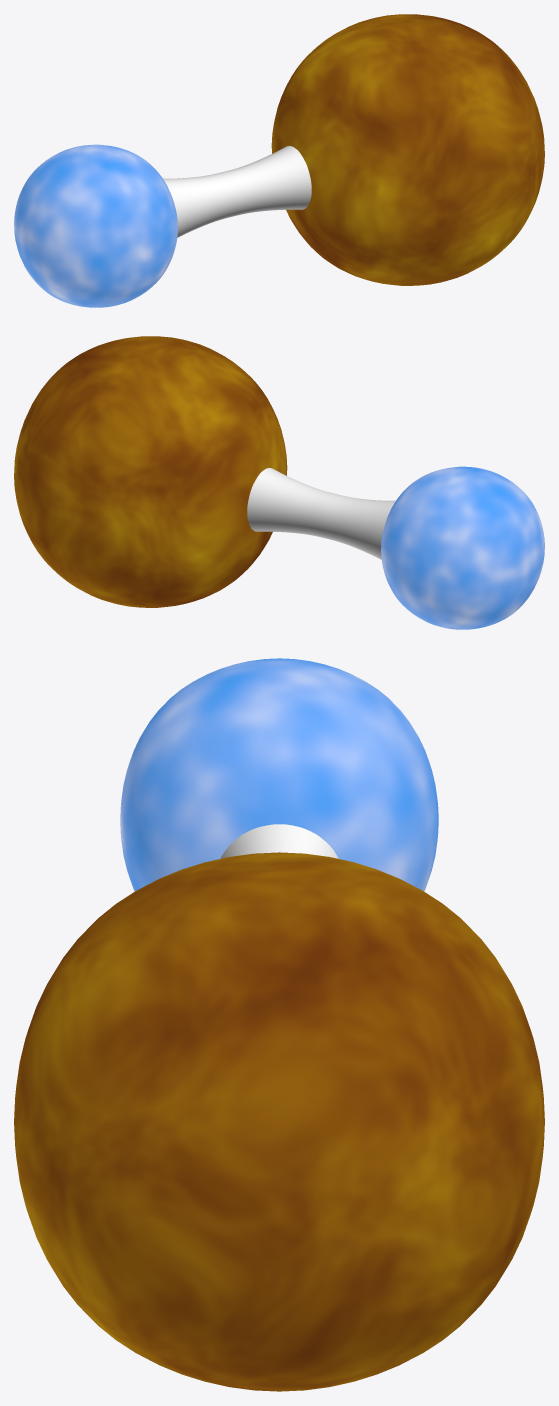
Rendered from HBr.glb.
3 views of the same model, one above another, from view 1: azimuth 30°, elevation 25°; view 2: azimuth 150°, elevation 25°; view 3: azimuth 270°, elevation 25° (orthographic). The views are drawn at different scales.
Visible parts, largest first — view 1: jednosytne_kyseliny; view 2: jednosytne_kyseliny; view 3: jednosytne_kyseliny.
Part boxes in pixels (bbox=[...]): jednosytne_kyseliny: bbox=[14, 14, 544, 307]; jednosytne_kyseliny: bbox=[14, 336, 544, 629]; jednosytne_kyseliny: bbox=[14, 658, 544, 1391].
Bounding box in the file's own units: 5.2 × 2.42 × 2.42.
Materials: 3 (2 with a texture image).
